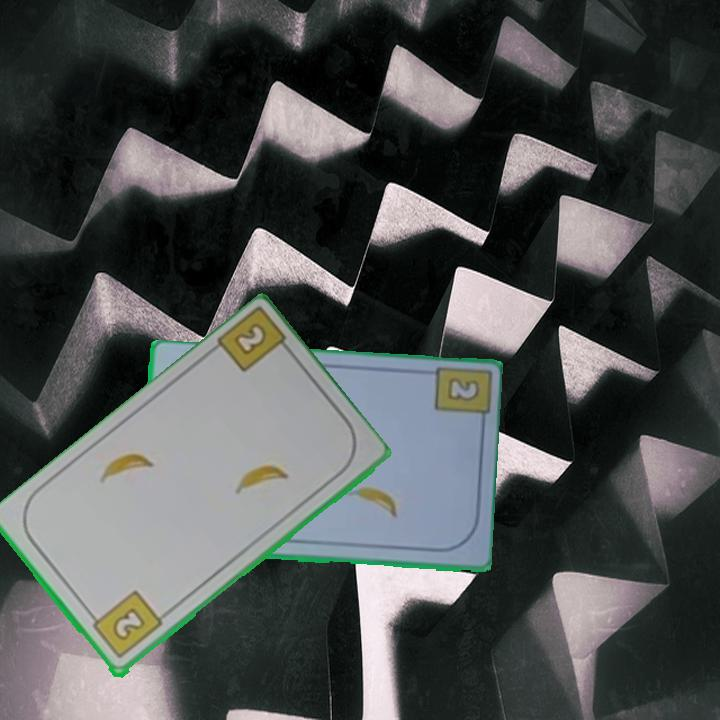2b: (85, 587, 166, 662), (230, 319, 270, 359), (446, 378, 479, 403)
